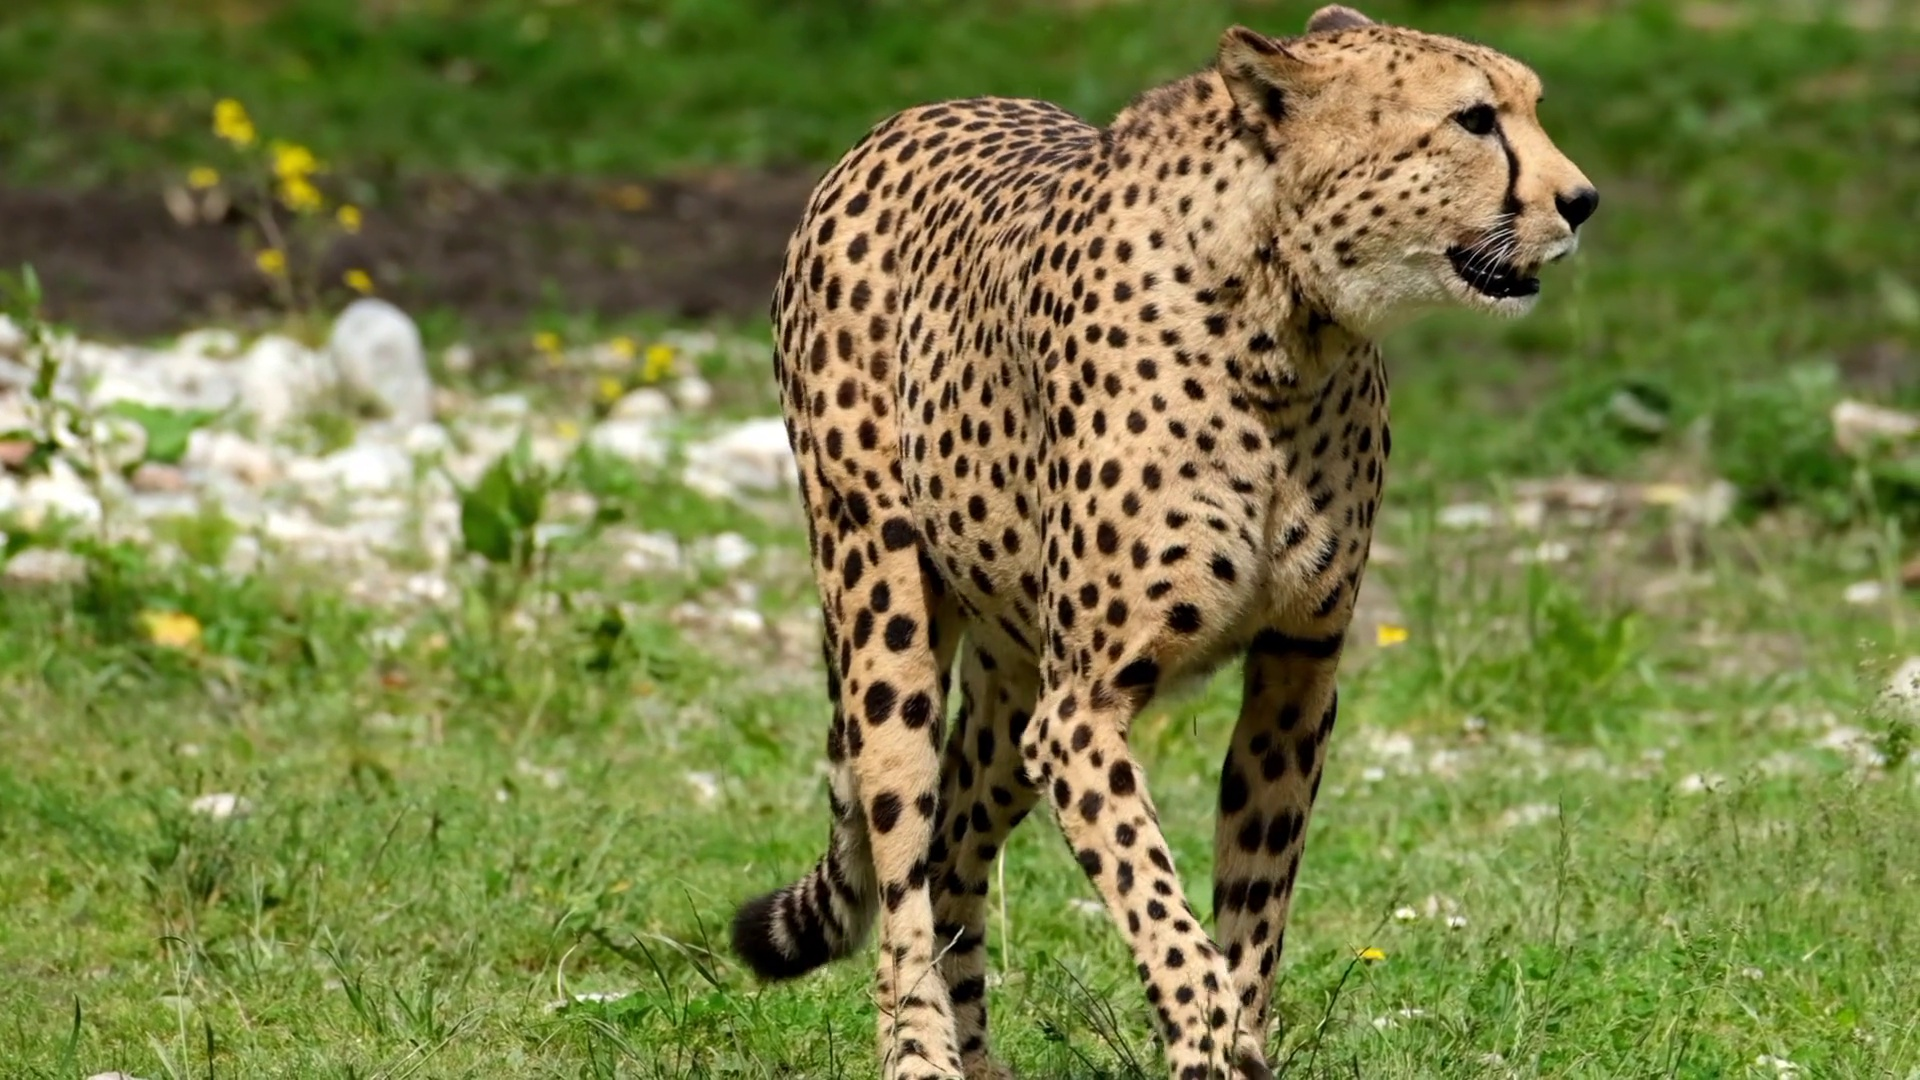Cheetah: (729, 3, 1602, 1080)
